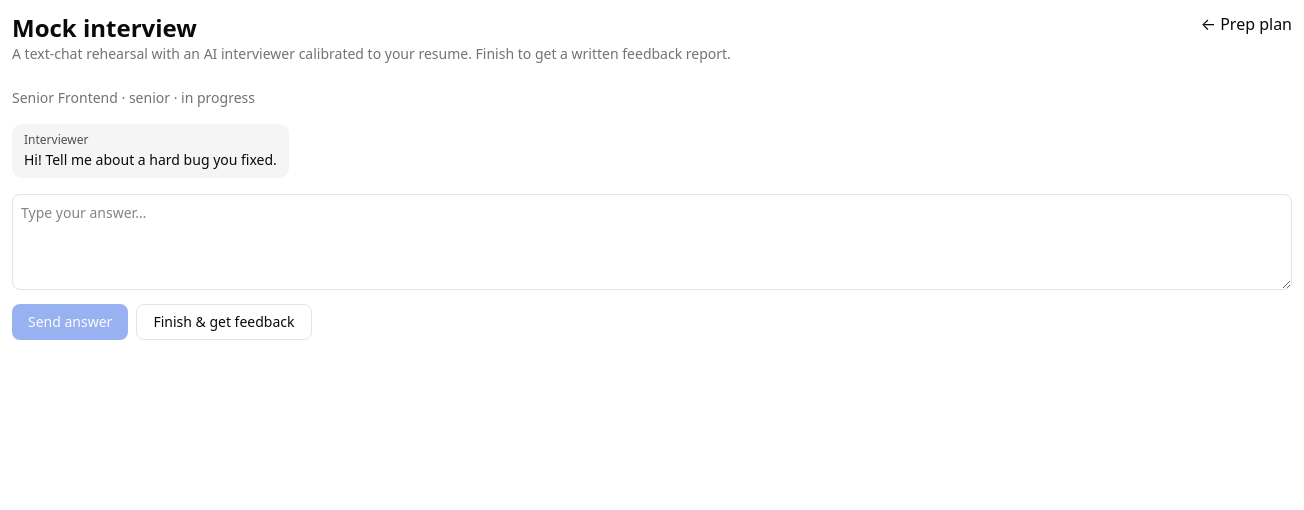
Test case: InterviewMock › finishes the interview and shows the feedback report
Click the button "Finish & get feedback": click(224, 322) [136, 304, 312, 340]
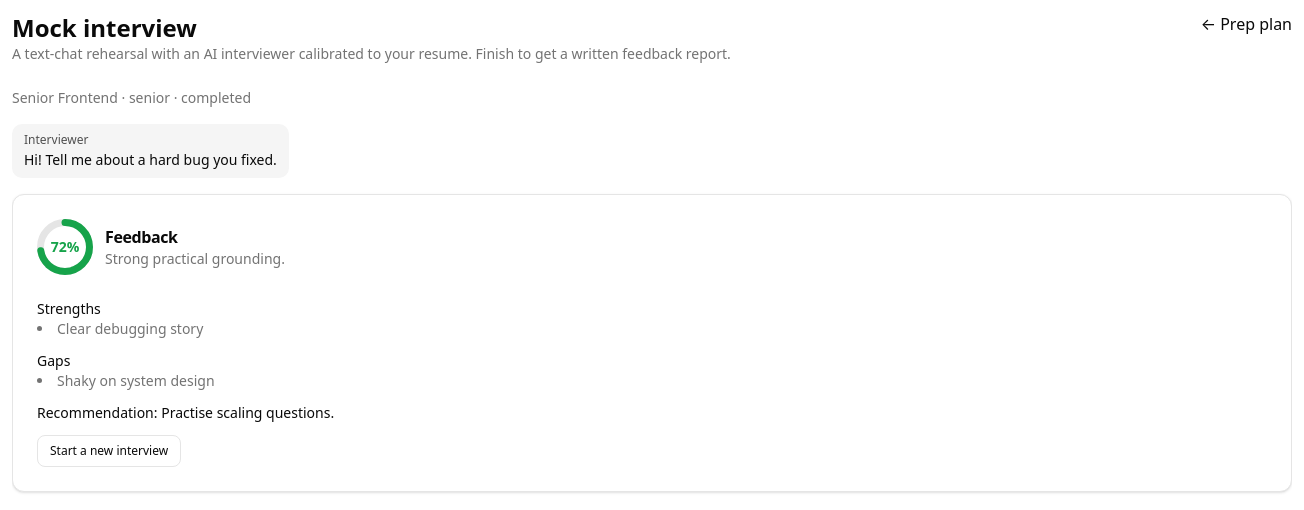
Expected: the element with test id "feedback" is shown, [12, 194, 1292, 492]
Expected: the text "Strong practical grounding." is shown, [105, 249, 285, 269]
Expected: the list item "Clear debugging story" is shown, [57, 319, 203, 338]
